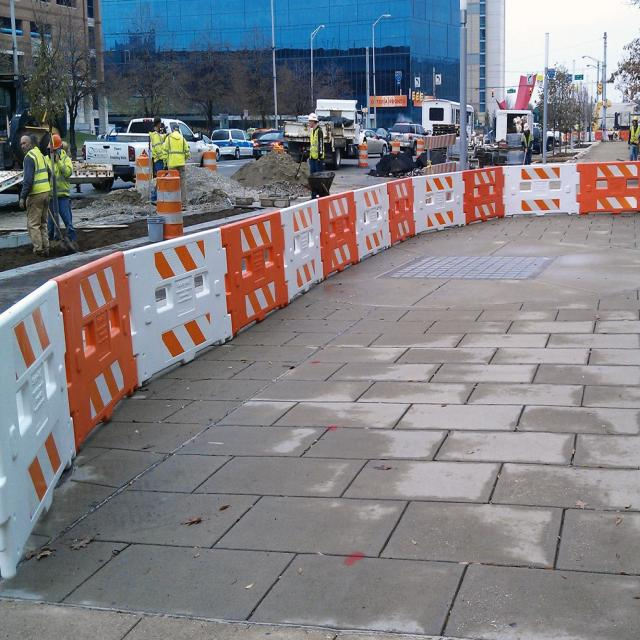cone: (1, 157, 638, 577)
